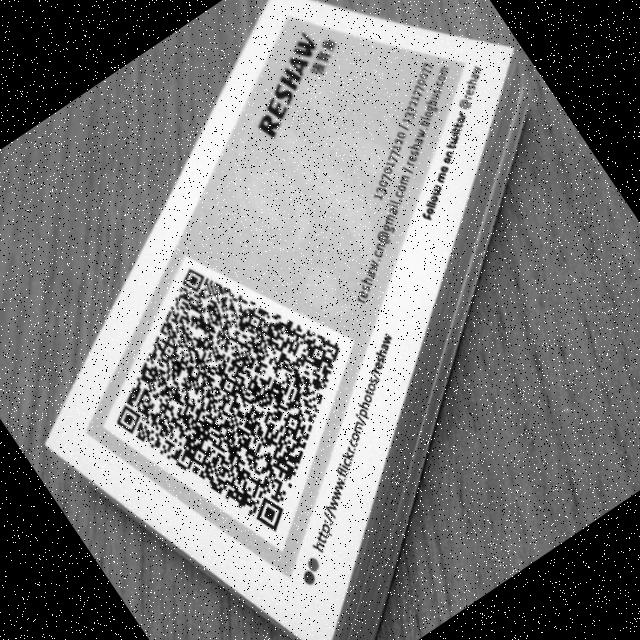QR-codes: (46, 208, 413, 590)
